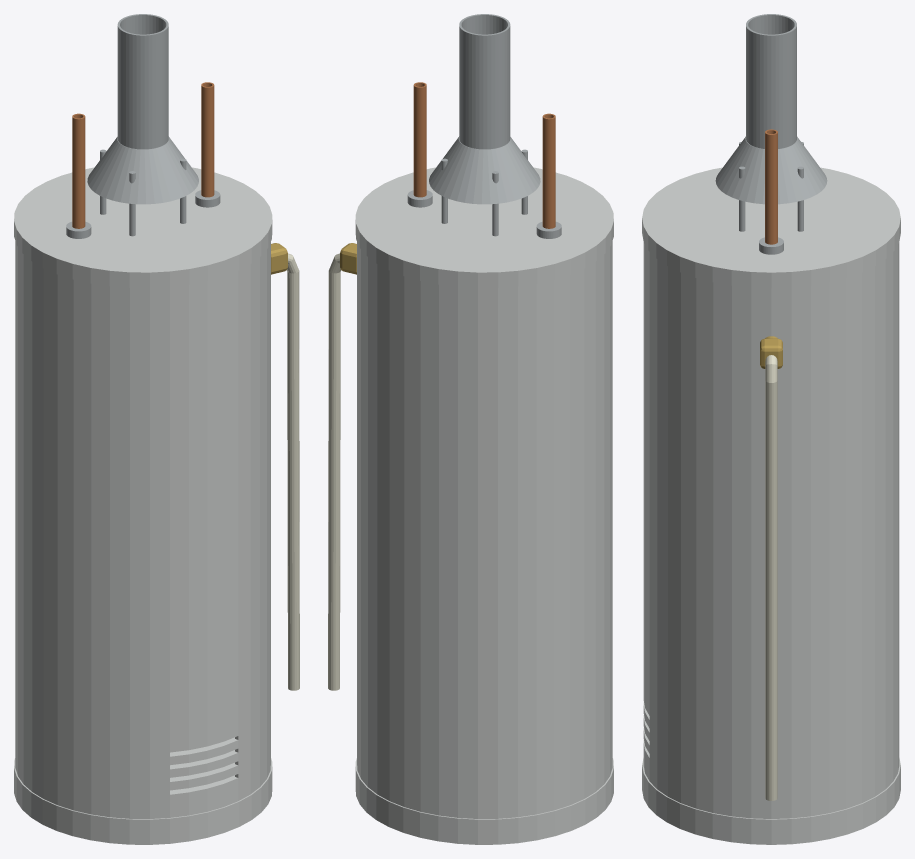
File: full.glb
3 views of the same model, side by side, from view 1: azimuth 30°, elevation 25°; view 2: azimuth 150°, elevation 25°; view 3: azimuth 270°, elevation 25° (orthographic).
Visible parts, largest first — view 1: Tank shell with four real vents, Flat upper lid, Rounded bottom closure, Open vertical exhaust flue, Open discharge tube, Open draft hood, Open copper stub -0.16, Open copper stub 0.16; view 2: Tank shell with four real vents, Flat upper lid, Rounded bottom closure, Open vertical exhaust flue, Open discharge tube, Open draft hood, Open copper stub -0.16, Open copper stub 0.16; view 3: Tank shell with four real vents, Flat upper lid, Rounded bottom closure, Open vertical exhaust flue, Open discharge tube, Open draft hood, Open copper stub 0.16, Brass valve elbow.
Boxes of the visible parts, x1,y1,x2,y2 form: Tank shell with four real vents: (15,241,270,818); Flat upper lid: (14,167,272,288); Rounded bottom closure: (14,737,272,844); Open vertical exhaust flue: (117,14,168,149); Open discharge tube: (287,253,299,690); Open draft hood: (87,136,198,204); Open copper stub -0.16: (72,113,85,228); Open copper stub 0.16: (201,82,214,197); Tank shell with four real vents: (357,241,612,818); Flat upper lid: (355,167,613,288); Rounded bottom closure: (355,758,613,844); Open vertical exhaust flue: (459,14,510,149); Open discharge tube: (328,253,340,690); Open draft hood: (429,136,540,204); Open copper stub -0.16: (542,113,555,228); Open copper stub 0.16: (413,82,426,197); Tank shell with four real vents: (643,242,899,818); Flat upper lid: (642,167,900,288); Rounded bottom closure: (642,758,900,844); Open vertical exhaust flue: (746,14,796,148); Open discharge tube: (765,355,777,800); Open draft hood: (715,136,827,204); Open copper stub 0.16: (765,129,777,244); Brass valve elbow: (760,338,782,368).
Size of the model in its own units: 0.665 by 1.82 by 0.556.
